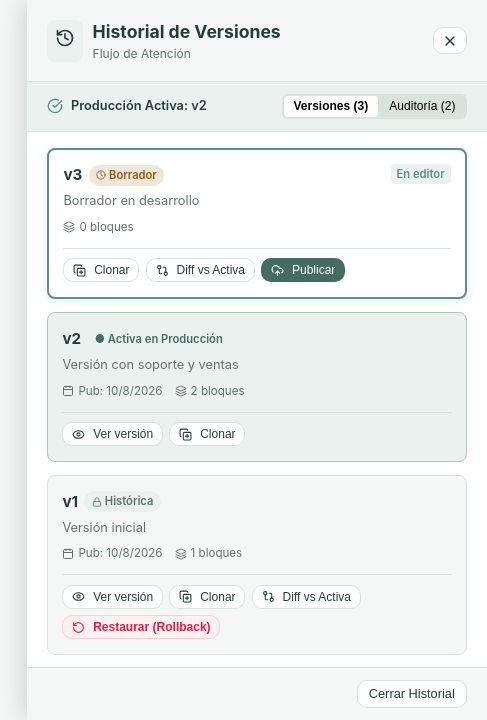
Test: Flow Versioning UI Components (Fase 3) › FlowVersionHistoryDrawer › switches to audit log tab and displays publication history
Note: Click tab Auditoría
Click the button "Auditoría (2)". click: (422, 106)
box: left=380, top=96, right=465, bottom=117
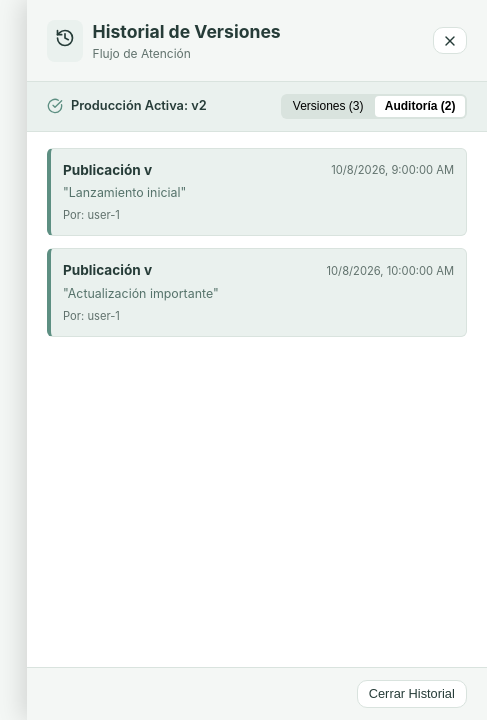
Now the text "\"Actualización importante\"" is shown, box left=63, top=286, right=219, bottom=301
Now the text "\"Lanzamiento inicial\"" is shown, box left=63, top=185, right=186, bottom=200
Now the text "Por: user-1" below "Lanzamiento inicial" is shown, box left=87, top=208, right=120, bottom=222
